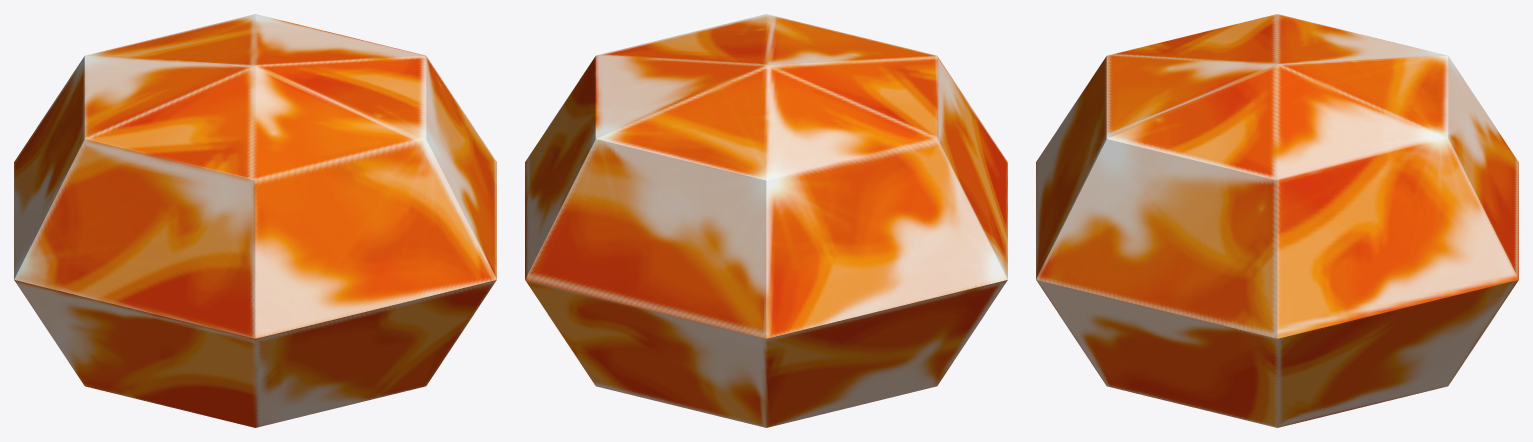
The model's file is stone_orange_002.fbx.
The picture shows the model from 3 angles, left to right: view 1: azimuth 30°, elevation 25°; view 2: azimuth 150°, elevation 25°; view 3: azimuth 270°, elevation 25°; orthographic projection.
Visible parts, largest first — view 1: stone; view 2: stone; view 3: stone.
Part boxes in pixels (left/top/right/bottom): stone: left=14, top=14, right=496, bottom=427; stone: left=525, top=14, right=1007, bottom=427; stone: left=1036, top=14, right=1518, bottom=427.
Bounding box in the file's own units: 6.44 × 3.96 × 5.57.
